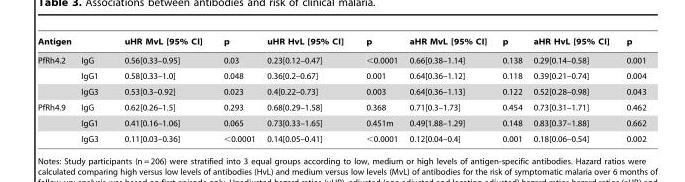table: (37, 36, 645, 143)
table column: (110, 36, 212, 143), (260, 36, 354, 143), (402, 36, 494, 143), (527, 36, 617, 143), (212, 36, 260, 143), (354, 36, 402, 143), (37, 36, 75, 143), (75, 36, 110, 143), (494, 36, 527, 143), (617, 36, 645, 143)
table column header: (37, 36, 645, 50)
table row: (37, 50, 645, 67), (37, 67, 645, 83), (37, 83, 645, 99), (37, 99, 645, 115), (37, 115, 645, 130), (37, 36, 645, 50), (37, 130, 645, 143)
table spanning cell: (37, 50, 75, 99), (37, 99, 75, 143)
